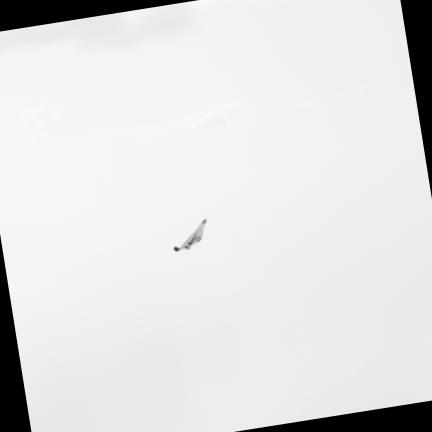Shahed: (174, 219, 206, 250)
